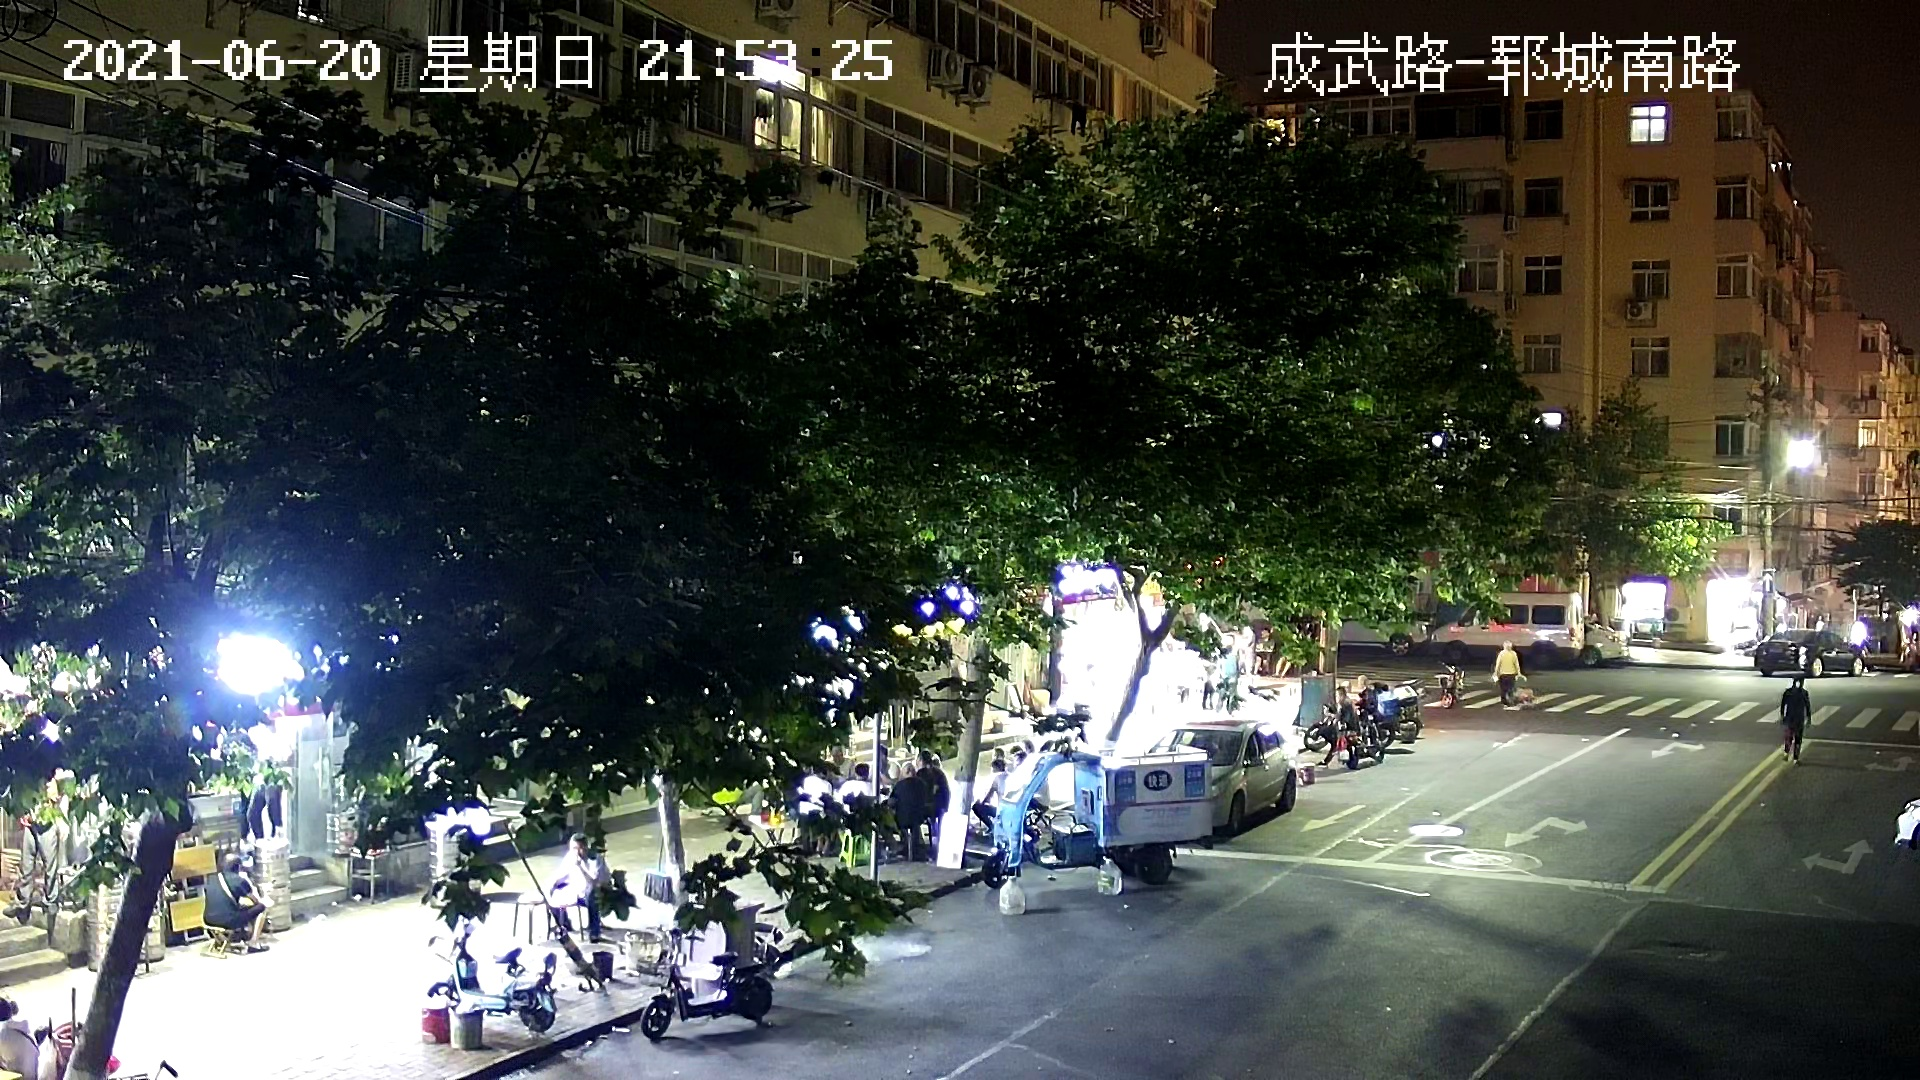chair: (196, 924, 243, 960)
uncertain: (749, 752, 949, 866)
